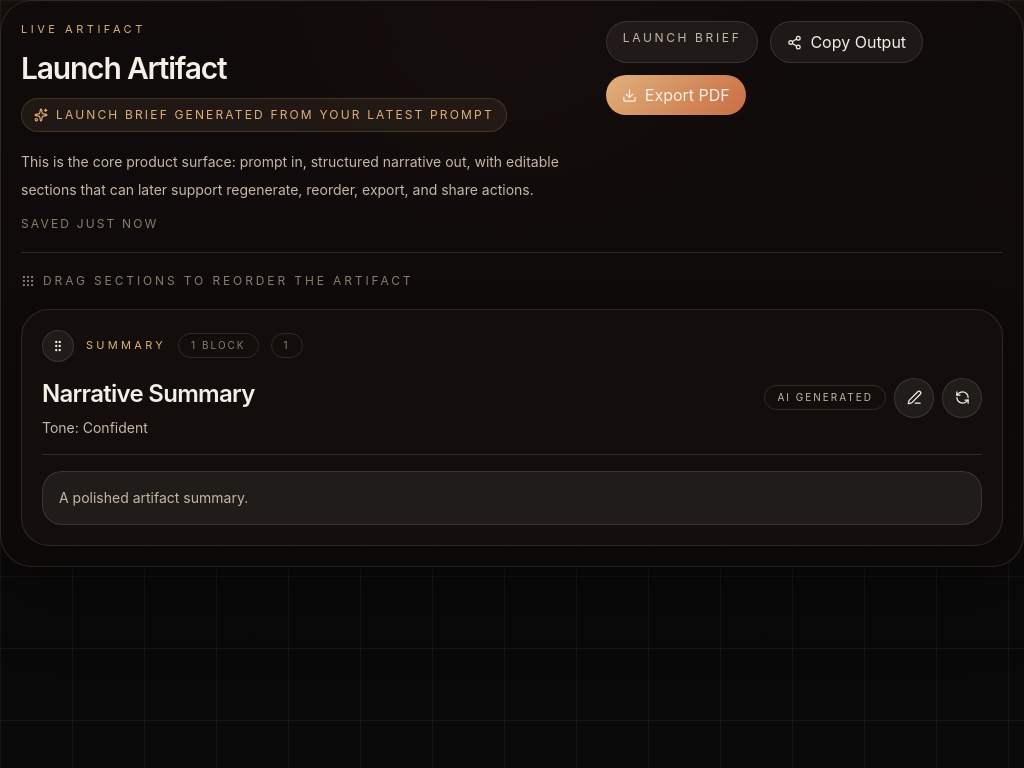
it: StoryboardCanvas actions › copies markdown output to the clipboard
The image size is (1024, 768).
What coordinates should you click on to do the following:
click the button "Copy Output"
I would click on:
 (847, 42)
Its box is [770,21,923,63].
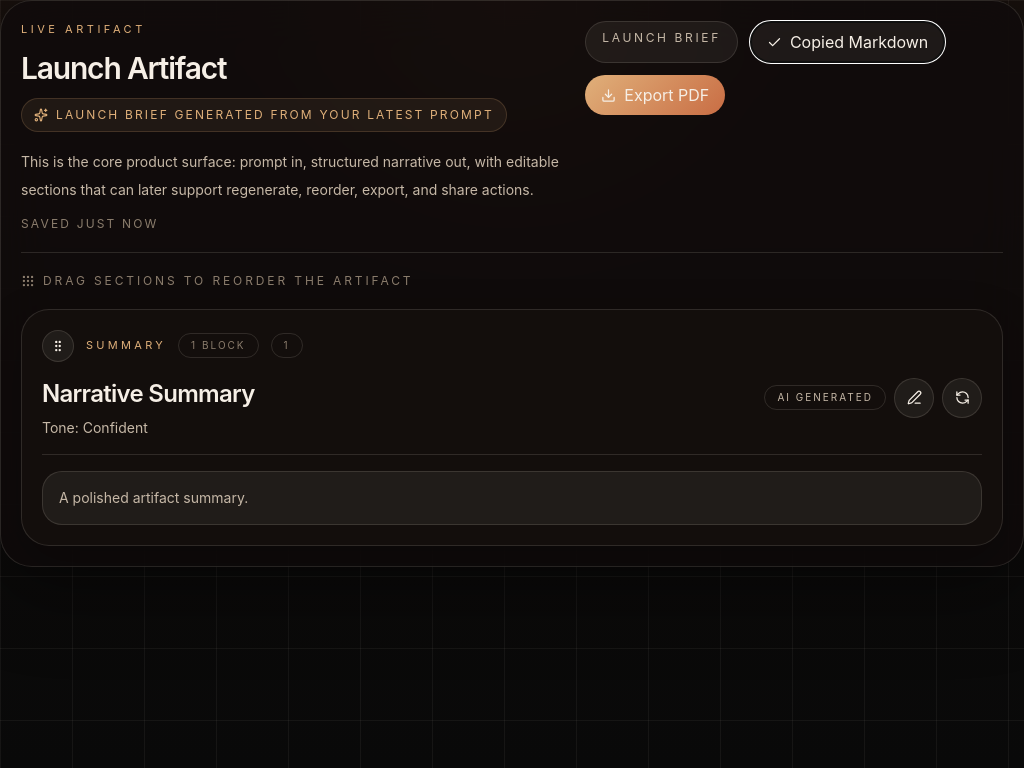
Now the button "Copied Markdown" is shown, box [750,21,945,63]
